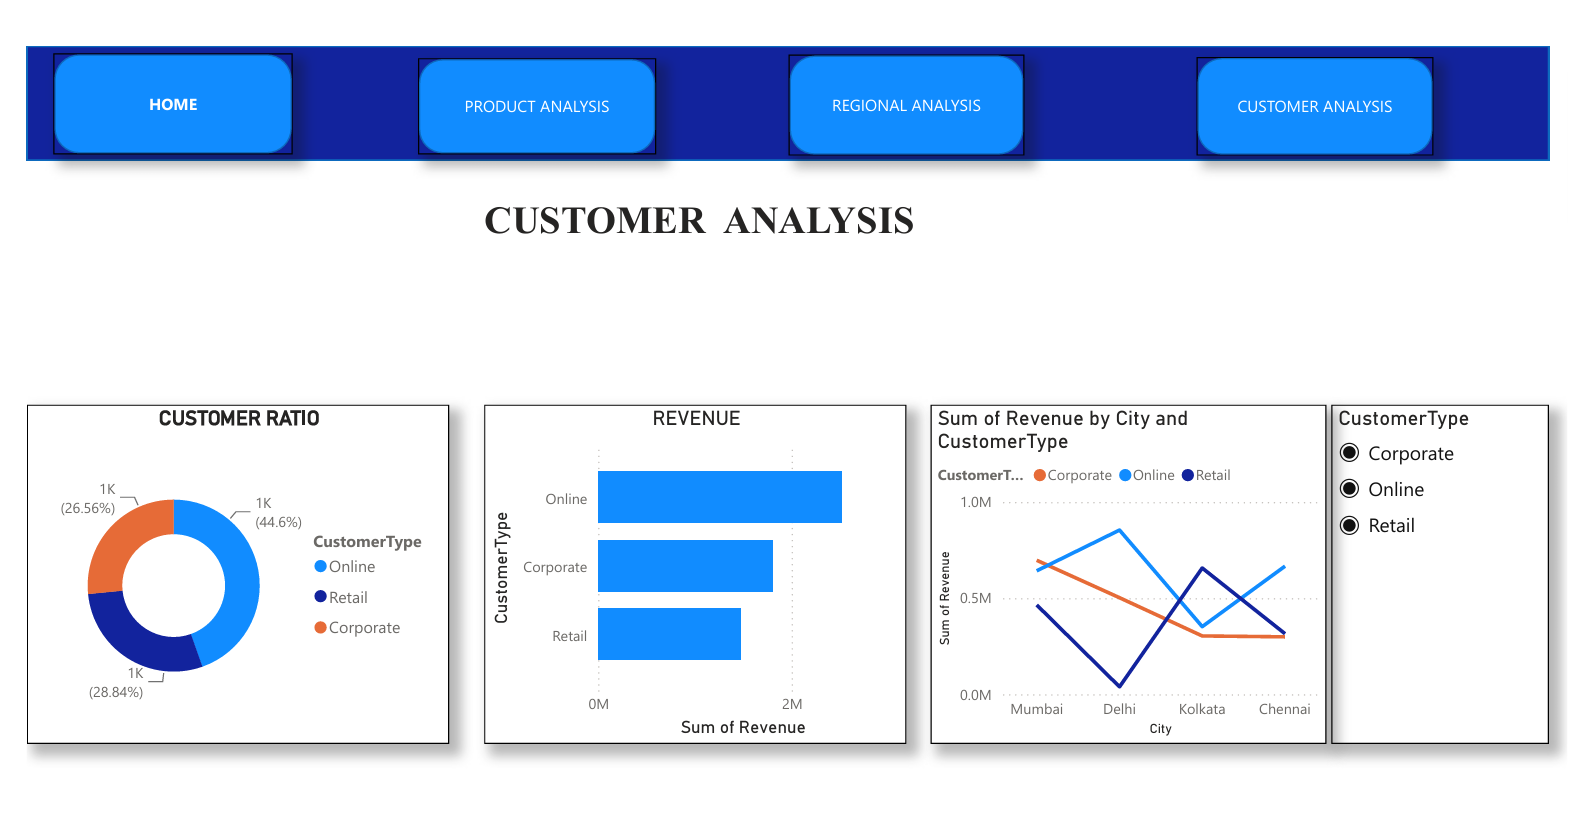

This screenshot's page, from the dashboard's own definition file:
{"tool":"powerbi","page":{"name":"Page 4","canvas":[1280,720],"ordinal":3},"visuals":[{"type":"shape","box":[0,16.5,1265.2,94.7],"z":0},{"type":"shape","box":[22,22,199,83.7],"z":1000},{"type":"shape","box":[325.2,26.1,197.6,79.6],"z":2000},{"type":"shape","box":[632.6,23.3,196.2,83.7],"z":3000},{"type":"shape","box":[971.5,24.7,197.6,82.3],"z":4000},{"type":"donutChart","title":"CUSTOMER RATIO","fields":{"Category":["clinic.CustomerType"],"Y":["Sum(clinic.Quantity)"]},"box":[0,314.2,351.3,281.3],"z":5000},{"type":"barChart","title":"REVENUE","fields":{"Y":["Sum(clinic.Revenue)"],"Category":["clinic.CustomerType"]},"box":[380.1,314.2,351.3,281.3],"z":6000},{"type":"listSlicer","fields":{"Values":["clinic.CustomerType"]},"box":[1084.1,314.2,181.1,281.3],"z":7000},{"type":"lineChart","fields":{"Category":["clinic.City"],"Series":["clinic.CustomerType"],"Y":["Sum(clinic.Revenue)"]},"box":[750.6,314.2,329.3,281.3],"z":8000},{"type":"textbox","box":[13.7,137.2,1089.5,65.9],"z":9000}]}

Visuals, with their boxes on the page's 1280x720 design canvas (x1, y1, x2, y2). These are canvas units, not pixel positions in the 1593x837 screenshot, which may show the page scaled, cropped or inside an application window:
shape: detection(0, 16, 1265, 111)
shape: detection(22, 22, 221, 106)
shape: detection(325, 26, 523, 106)
shape: detection(633, 23, 829, 107)
shape: detection(972, 25, 1169, 107)
"CUSTOMER RATIO" donutChart: detection(0, 314, 351, 596)
"REVENUE" barChart: detection(380, 314, 731, 596)
listSlicer - clinic.CustomerType: detection(1084, 314, 1265, 596)
lineChart - clinic.City x clinic.CustomerType: detection(751, 314, 1080, 596)
textbox: detection(14, 137, 1103, 203)
